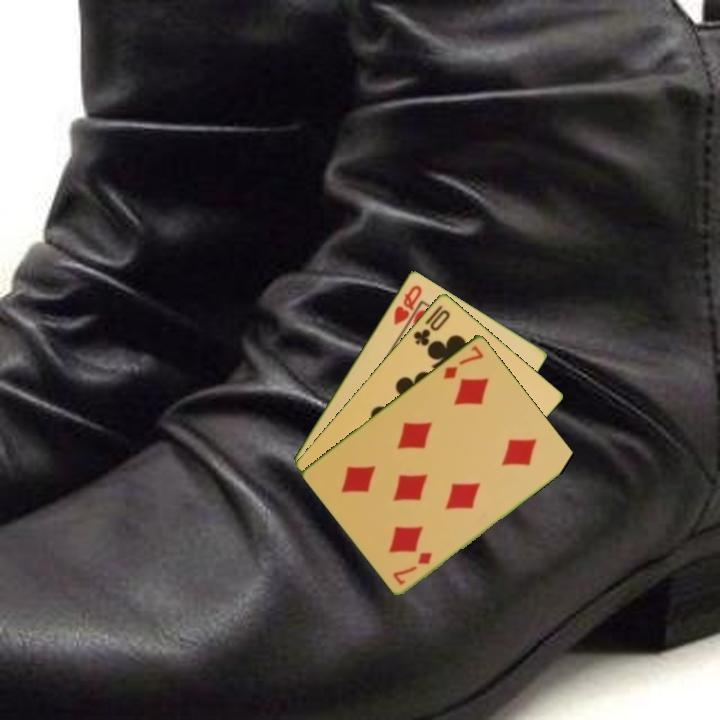10c: (409, 301, 453, 349)
7d: (440, 342, 486, 382), (390, 548, 435, 587)
Qh: (390, 281, 425, 327)
